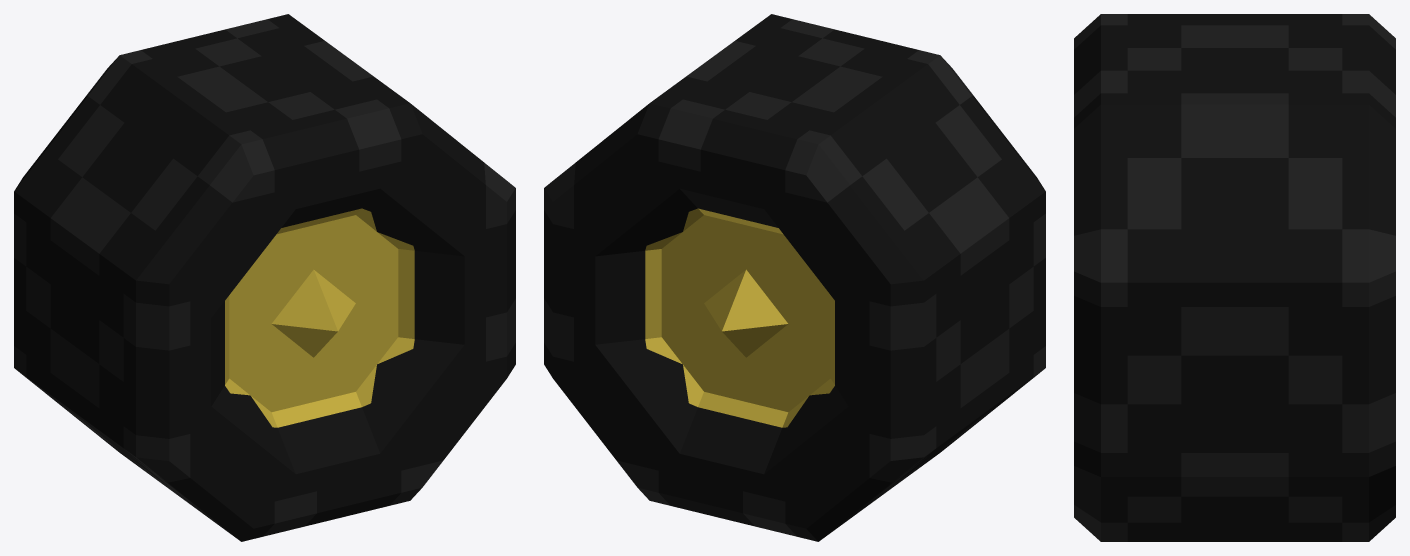
File: truck.fbx
3 renders of one model, left to right at view 1: azimuth 30°, elevation 25°; view 2: azimuth 150°, elevation 25°; view 3: azimuth 270°, elevation 25°, orthographic. The views are drawn at different scales.
Visible parts, largest first — view 1: truck; view 2: truck; view 3: truck.
Boxes of the visible parts, x1,y1,x2,y2 form: truck: (14, 14, 515, 541); truck: (544, 14, 1045, 541); truck: (1074, 14, 1395, 541).
Bounding box in the file's own units: 354 × 354 × 236.
